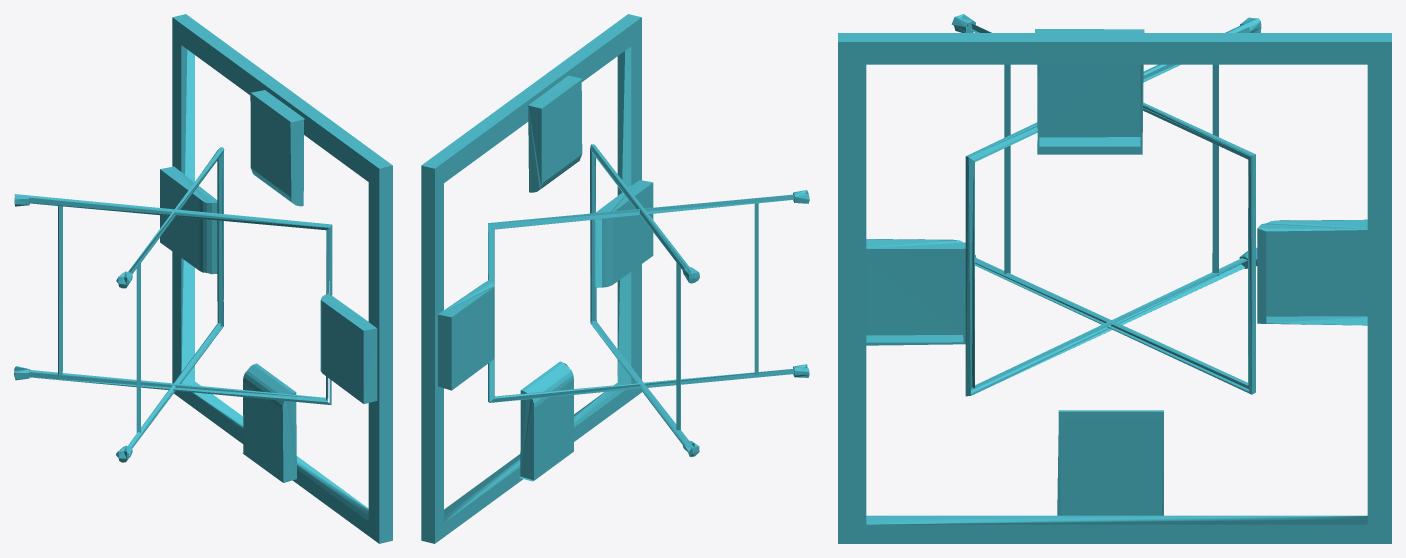
3 renders of one model, left to right at view 1: azimuth 30°, elevation 25°; view 2: azimuth 150°, elevation 25°; view 3: azimuth 270°, elevation 25°, orthographic. The views are drawn at different scales.
Visible parts, largest first — view 1: Renderer Node; view 2: Renderer Node; view 3: Renderer Node.
Boxes of the visible parts, x1,y1,x2,y2 form: Renderer Node: [14, 14, 392, 543]; Renderer Node: [421, 14, 809, 543]; Renderer Node: [838, 14, 1391, 543].
Size of the model in its own units: 0.4115 by 0.6444 by 0.6444.
1 material, 1 textured.
